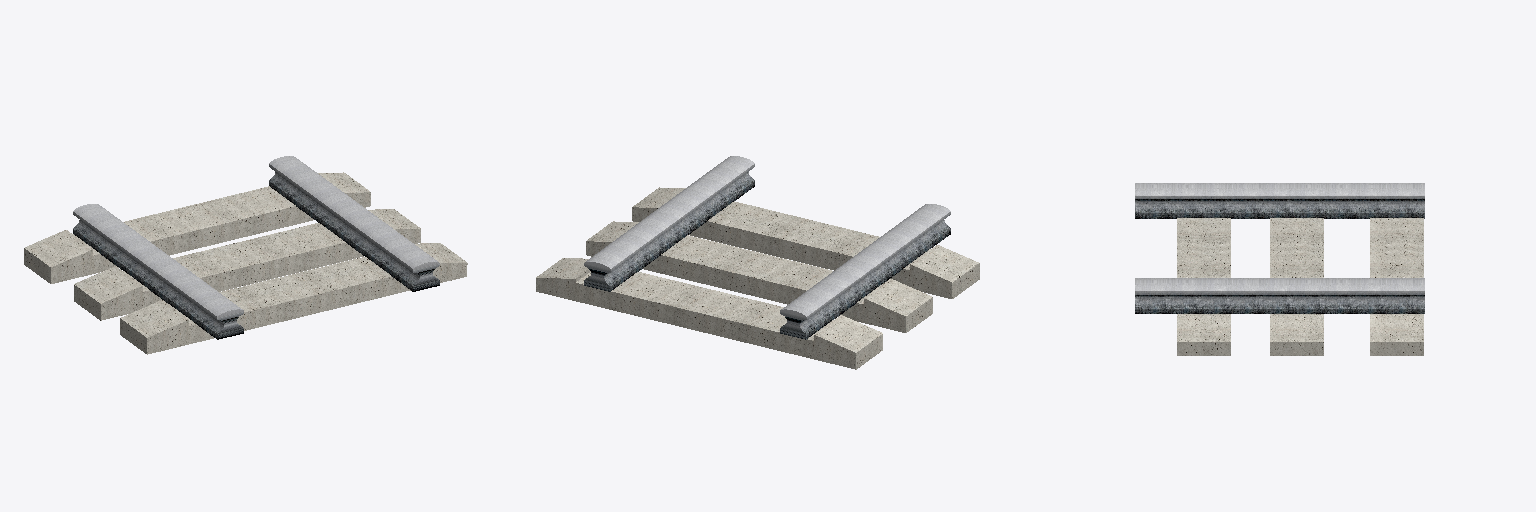
3 renders of one model, left to right at view 1: azimuth 30°, elevation 25°; view 2: azimuth 150°, elevation 25°; view 3: azimuth 270°, elevation 25°, orthographic.
Visible parts, largest first — view 1: Line009, Object001; view 2: Line009, Object001; view 3: Object001, Line009.
Boxes of the visible parts, box(x1,y1,x2,y2) form: Line009: box(24, 172, 467, 354); Object001: box(73, 156, 439, 339); Line009: box(536, 187, 979, 369); Object001: box(584, 156, 950, 339); Object001: box(1135, 183, 1424, 313); Line009: box(1177, 218, 1423, 355).
Size of the model in its own units: 4.31 by 0.5688 by 3.37.
Materials: 2 (2 with a texture image).